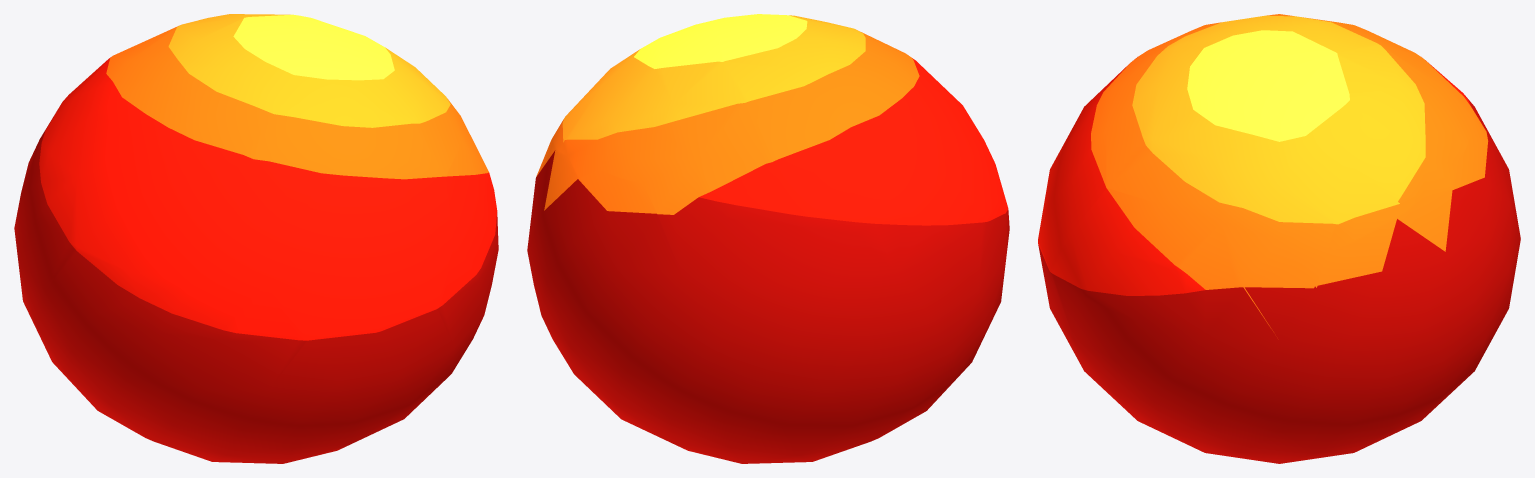
File: fruit_ember_115.glb
3 renders of one model, left to right at view 1: azimuth 30°, elevation 25°; view 2: azimuth 150°, elevation 25°; view 3: azimuth 270°, elevation 25°, orthographic.
Parts seen in each view (by area): view 1: fruit_ember_115; view 2: fruit_ember_115; view 3: fruit_ember_115.
Part boxes in pixels (x1,y1,x2,y2): fruit_ember_115: (14, 14, 498, 463); fruit_ember_115: (527, 14, 1009, 463); fruit_ember_115: (1038, 14, 1520, 463).
Bounding box in the file's own units: 6 × 5.5 × 6.
